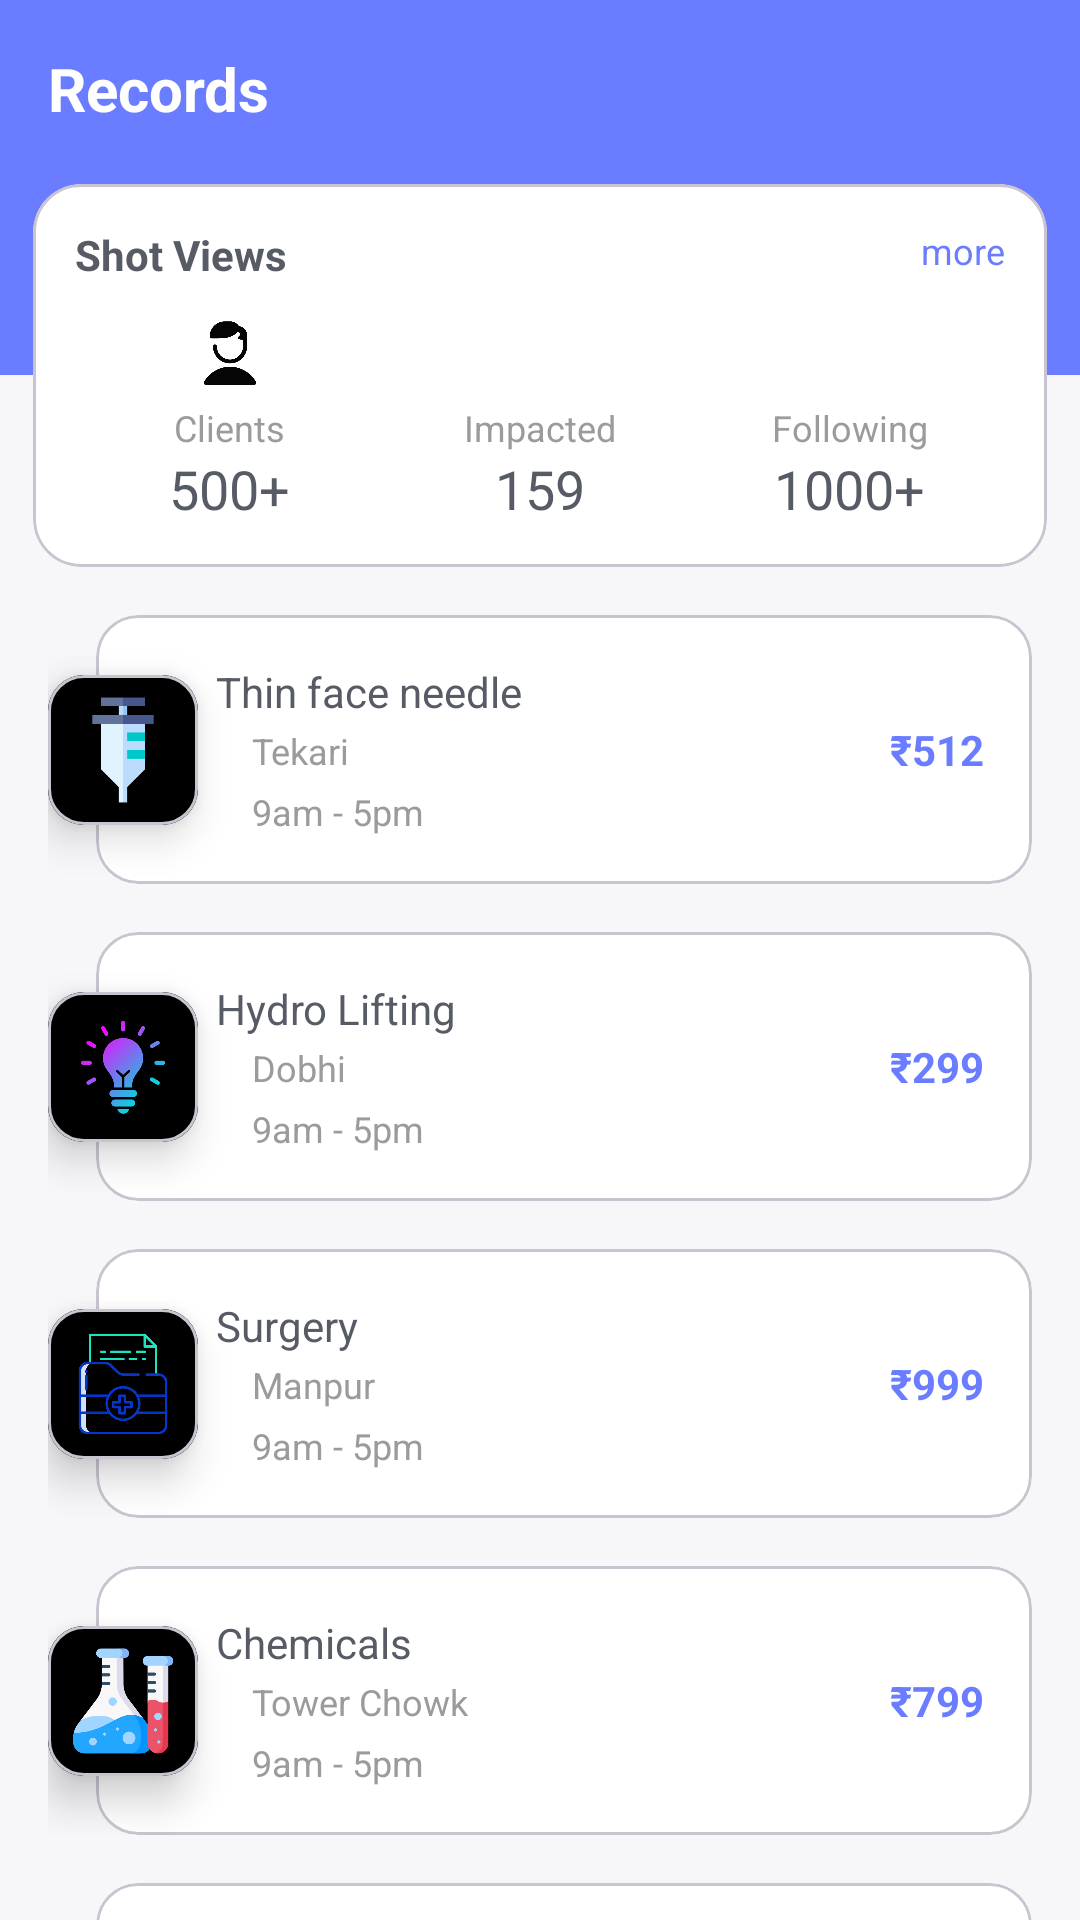

Icon click points for this 1080×1920 phone screenshot, format (x,y):
acid: (123,1701)
